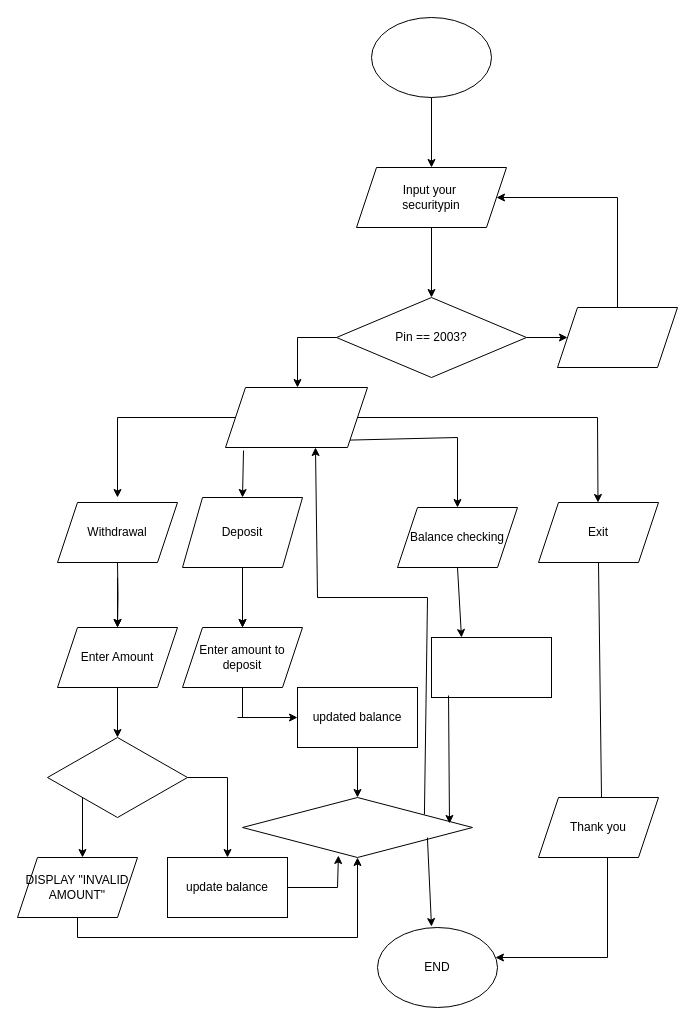
This 695x1025 diagram has some shape labels left out. Each missing label, with the centre of its shape:
Amount <= Balance: point (117, 777)
DISPLAY "NOT ALLOWED": point (617, 337)
display balance: point (491, 667)
Menu Options: 1 - 4: point (296, 417)
Perform Another transaction?: point (357, 827)
Start: point (431, 57)
